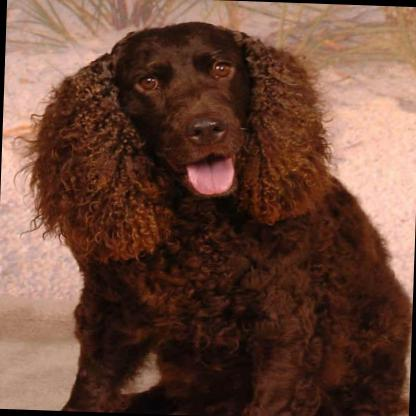Irish_water_spaniel: (2, 15, 416, 416)
